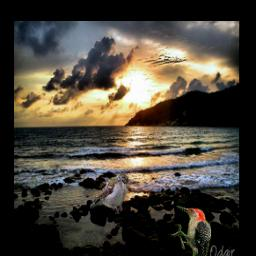Sparrow: (90, 172, 132, 214)
Woodpecker: (171, 207, 211, 256)
